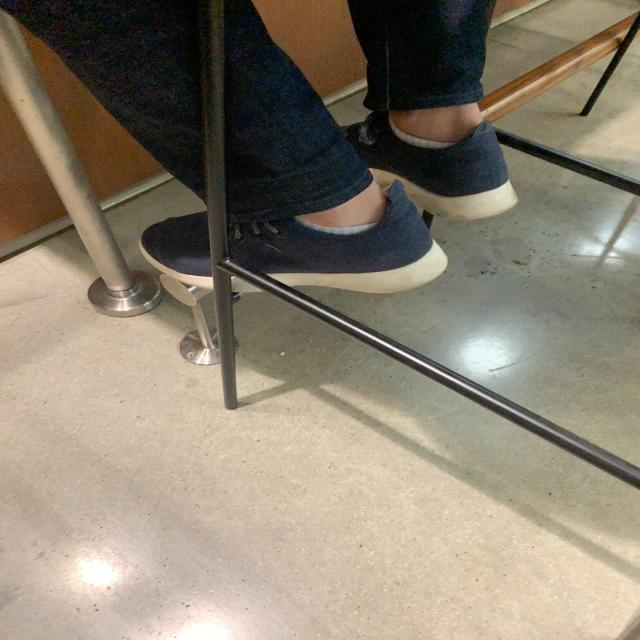shoe: (142, 185, 448, 293)
